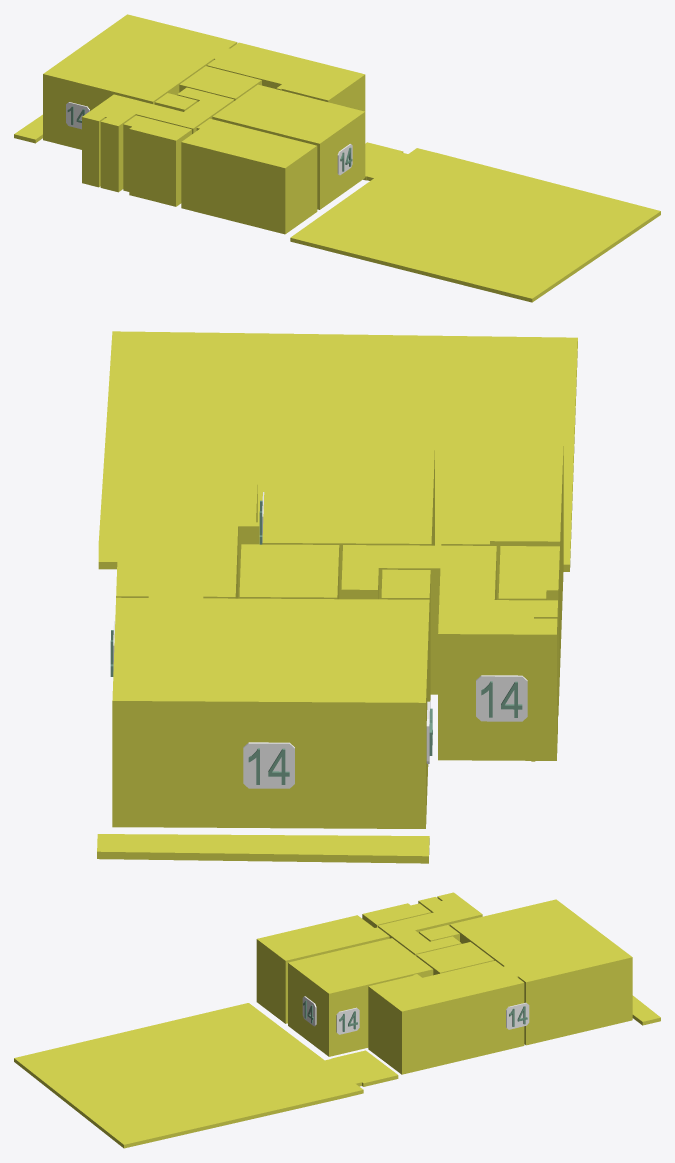
The picture shows the model from 3 angles, top to bottom: view 1: azimuth 30°, elevation 25°; view 2: azimuth 150°, elevation 25°; view 3: azimuth 270°, elevation 25°; orthographic projection. The views are drawn at different scales.
Parts seen in each view (by area): view 1: g_9, g_0, g_7, g_1, g_5, g_2, g_6, g_3, g_4, g_8; view 2: g_7, g_9, g_5, g_1, g_2, g_0, g_8, g_3, g_6, g_27, g_15, g_4; view 3: g_9, g_7, g_2, g_1, g_0, g_5, g_3, g_6, g_8, g_12, g_24, g_4.
Boxes of the visible parts, bbox=[...] form: g_9: bbox=[290, 142, 660, 302]; g_0: bbox=[181, 118, 317, 234]; g_7: bbox=[43, 14, 237, 149]; g_1: bbox=[212, 84, 365, 209]; g_5: bbox=[82, 87, 234, 192]; g_2: bbox=[206, 42, 365, 111]; g_6: bbox=[123, 115, 191, 206]; g_3: bbox=[179, 66, 261, 100]; g_4: bbox=[154, 93, 197, 111]; g_8: bbox=[14, 114, 42, 143]; g_7: bbox=[112, 597, 429, 828]; g_9: bbox=[98, 331, 577, 571]; g_5: bbox=[341, 545, 557, 761]; g_1: bbox=[262, 442, 434, 599]; g_2: bbox=[116, 477, 259, 598]; g_0: bbox=[441, 443, 563, 667]; g_8: bbox=[97, 834, 429, 863]; g_3: bbox=[239, 544, 339, 599]; g_6: bbox=[498, 546, 559, 716]; g_27: bbox=[476, 675, 527, 721]; g_15: bbox=[243, 742, 294, 788]; g_4: bbox=[381, 569, 430, 701]; g_9: bbox=[14, 1003, 398, 1148]; g_7: bbox=[449, 899, 632, 1045]; g_2: bbox=[368, 960, 524, 1074]; g_1: bbox=[288, 938, 433, 1056]; g_0: bbox=[256, 915, 389, 1023]; g_5: bbox=[378, 892, 482, 955]; g_3: bbox=[416, 942, 494, 975]; g_6: bbox=[362, 903, 431, 927]; g_8: bbox=[632, 995, 660, 1025]; g_12: bbox=[506, 1002, 529, 1029]; g_24: bbox=[336, 1007, 359, 1034]; g_4: bbox=[419, 925, 459, 941].
Bounding box in the file's own units: 16.54 × 2.74 × 23.92.
